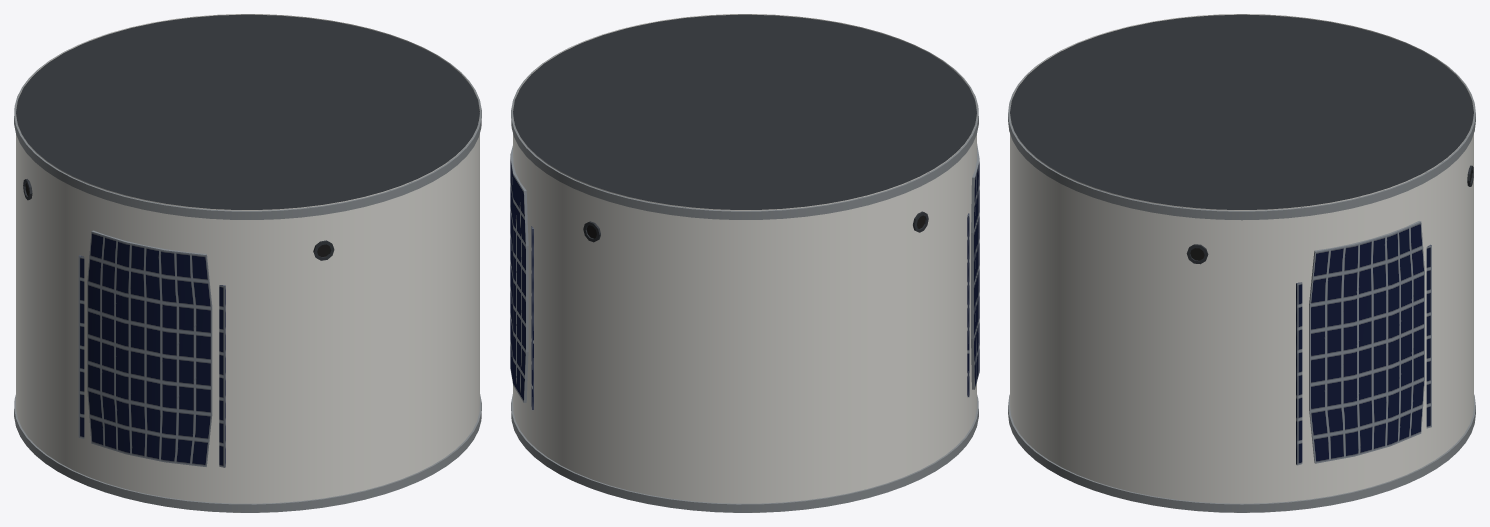
Rendered from gaganyaan_sm.glb.
3 views of the same model, side by side, from view 1: azimuth 30°, elevation 25°; view 2: azimuth 150°, elevation 25°; view 3: azimuth 270°, elevation 25° (orthographic).
Visible parts, largest first — view 1: body, slot_power; view 2: body, slot_power; view 3: body, slot_power.
Part boxes in pixels (x1,y1,x2,y2): body: [14, 14, 481, 512]; slot_power: [78, 255, 225, 467]; body: [510, 14, 979, 512]; slot_power: [531, 213, 969, 410]; body: [1008, 14, 1475, 512]; slot_power: [1296, 244, 1431, 465].
Bounding box in the file's own units: 2.52 × 1.81 × 2.52.
10 materials, 1 textured.
